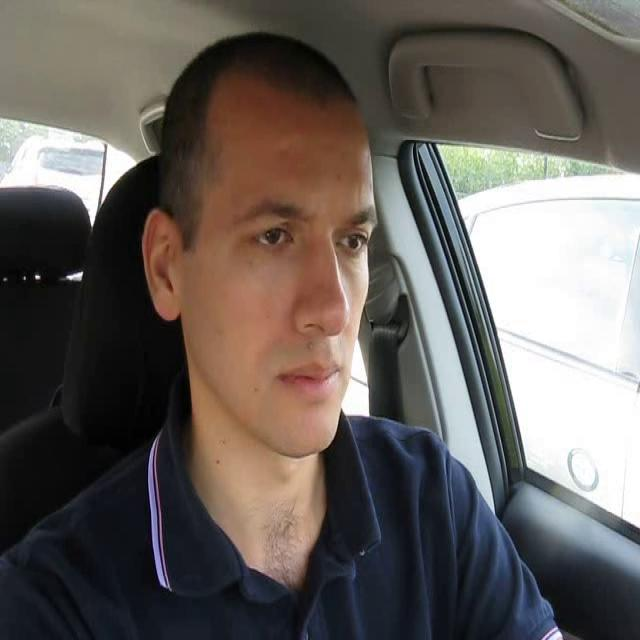close: (278, 356, 342, 400)
